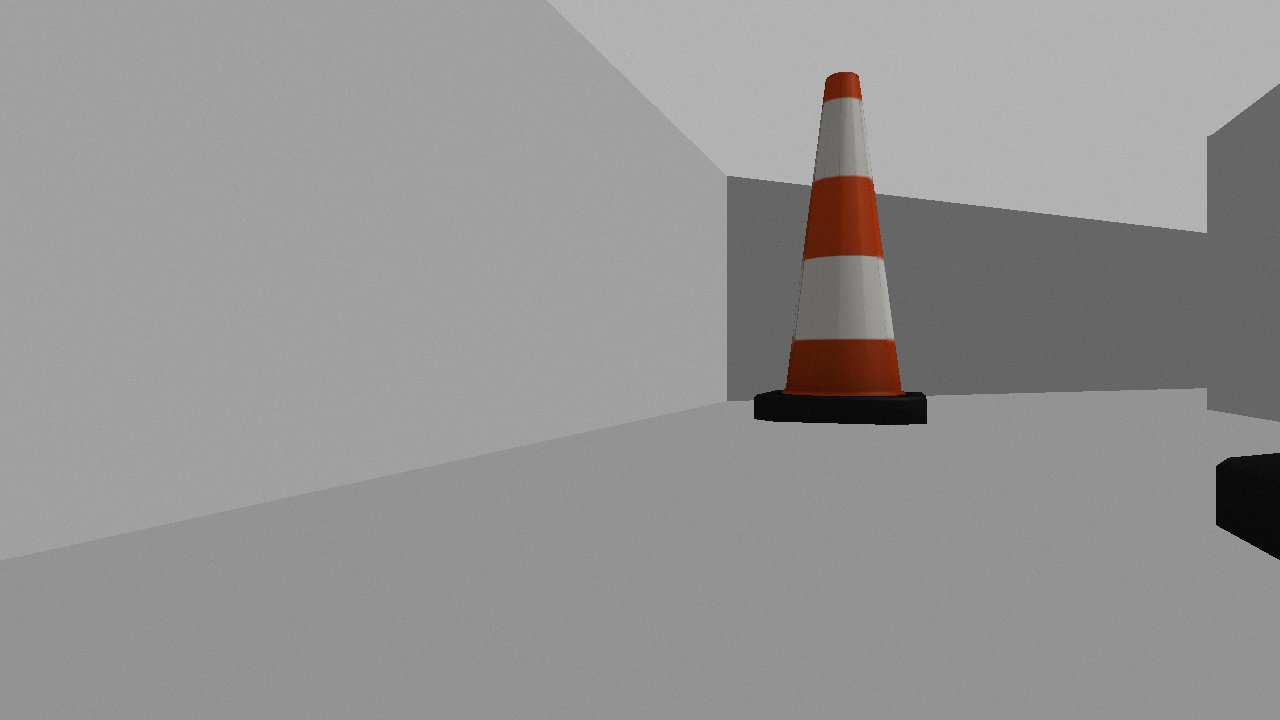barricade: (715, 53, 954, 453)
